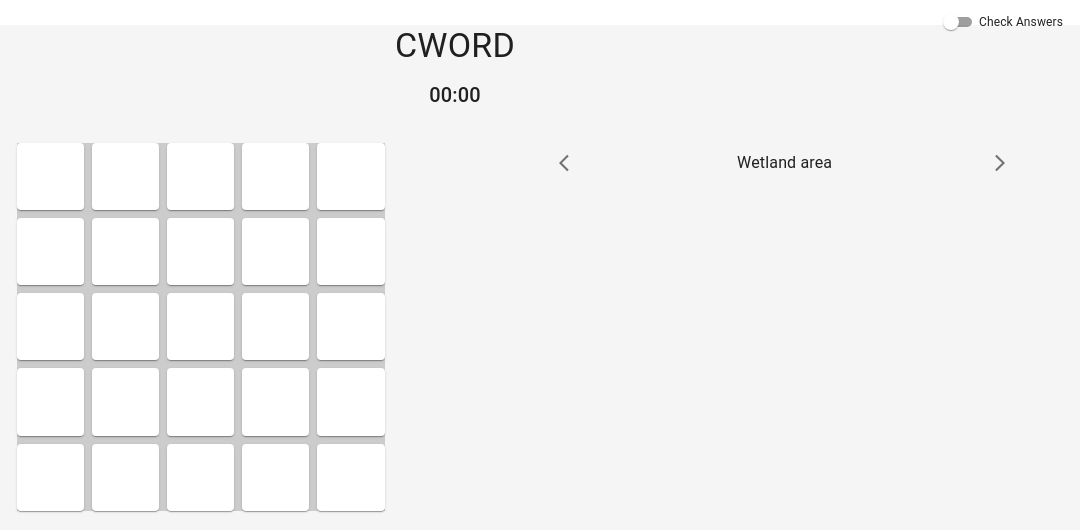
it: App Component › Clue Navigation › should navigate to next clue when next button is clicked
The image size is (1080, 530).
Expected: the text "Wetland area" is shown, top-left (737, 153), bottom-right (832, 172)
Click the 2nd button: (1000, 163) top-left (985, 148), bottom-right (1015, 178)
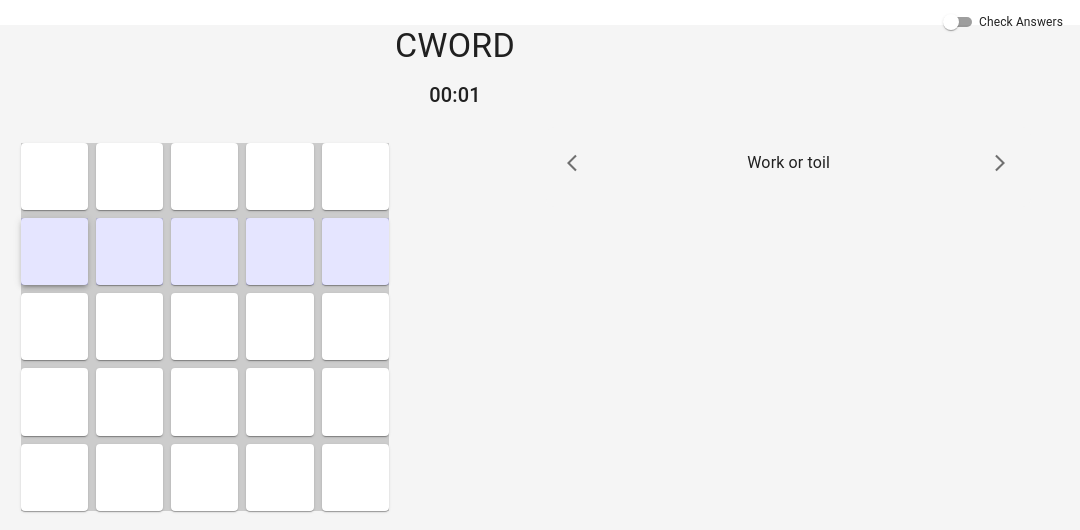
Expected: the text "Work or toil" is shown, top-left (747, 153), bottom-right (830, 172)
